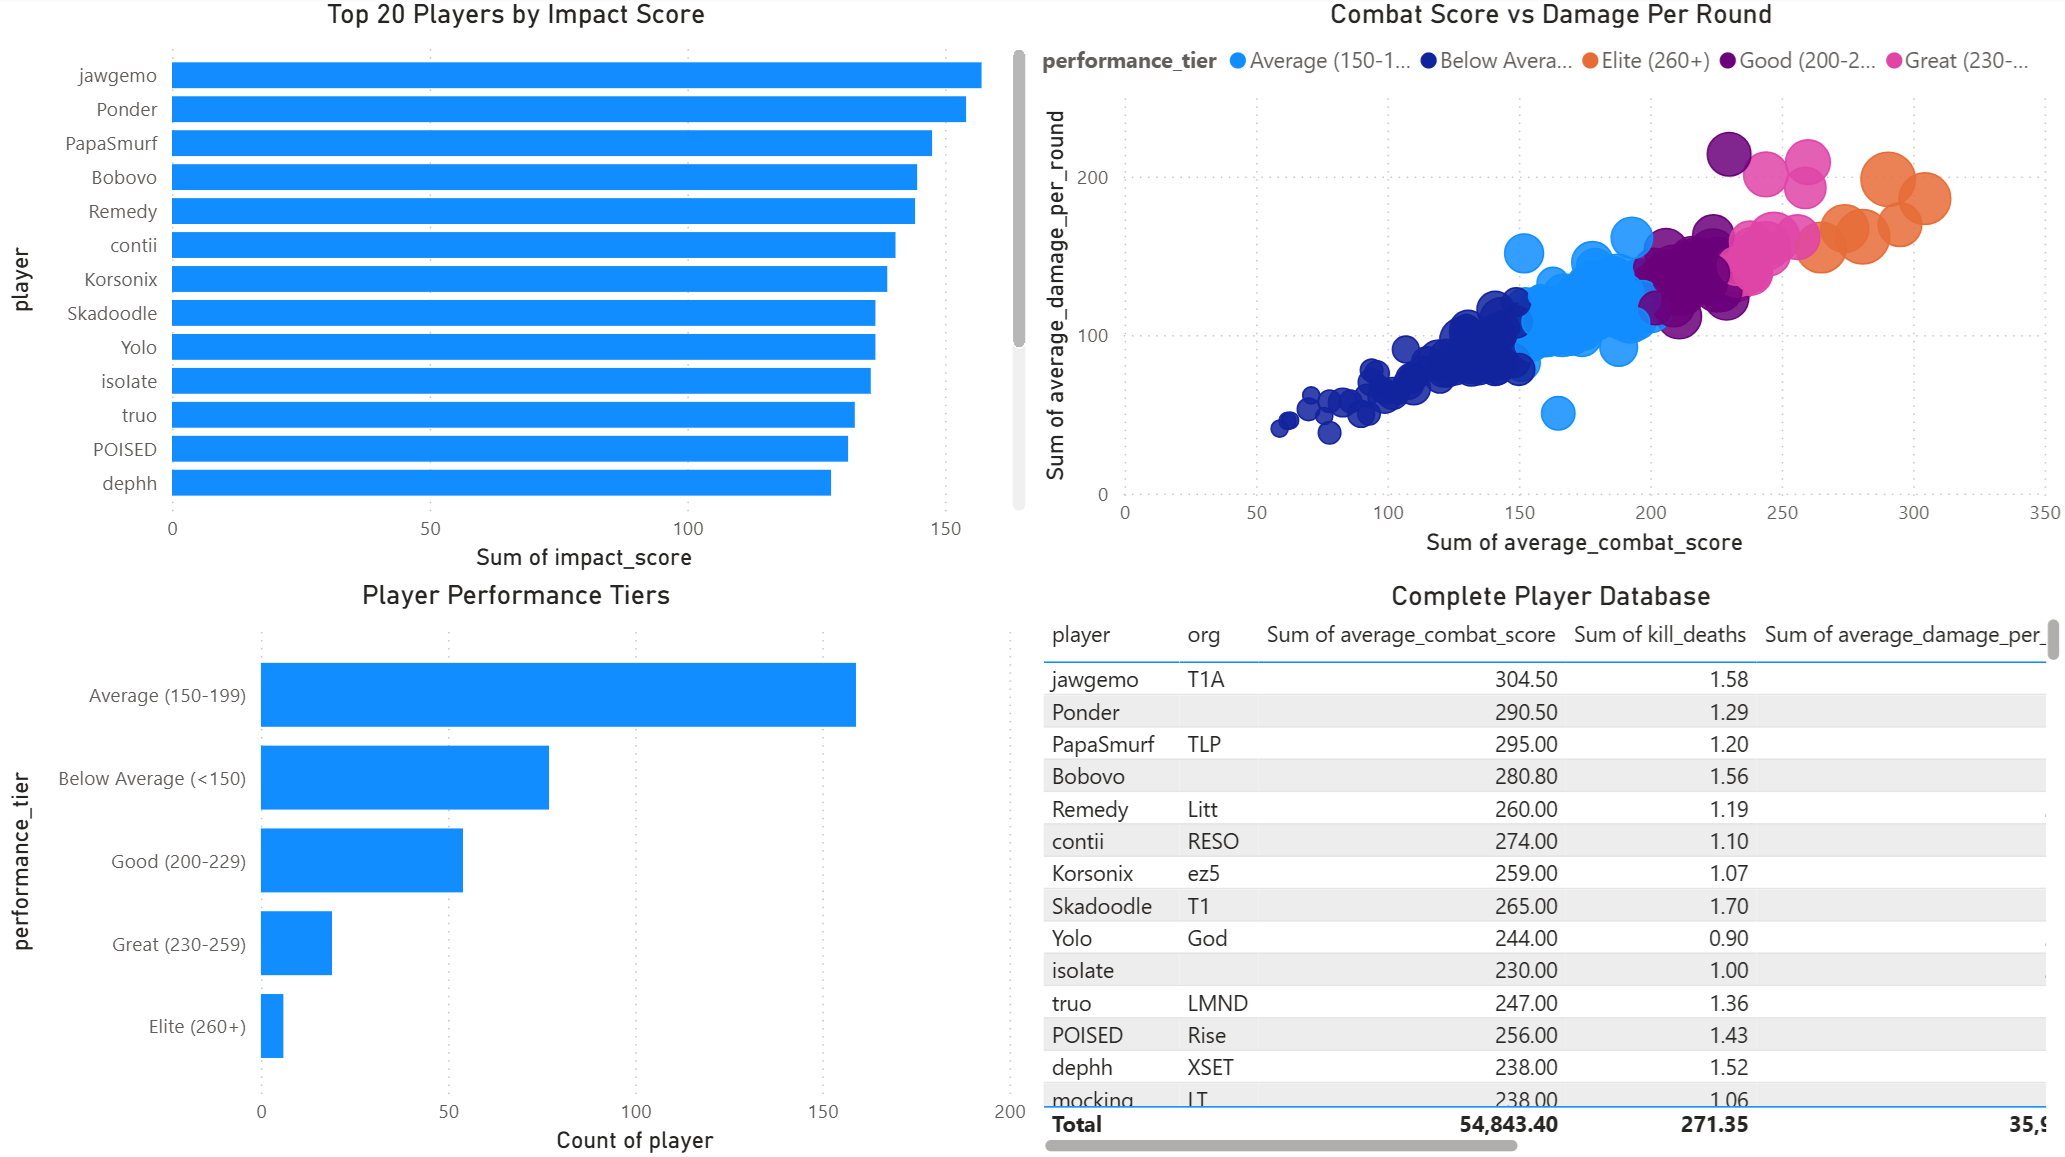

The page's visual inventory and layout, read from the dashboard file:
{"tool":"powerbi","page":{"name":"Player Stats","canvas":[1280,720],"ordinal":3},"visuals":[{"type":"barChart","title":"Top 20 Players by Impact Score","fields":{"Category":["stats_enriched.player"],"Y":["Sum(stats_enriched.impact_score)"]},"box":[0,0,640,359.6],"z":0},{"type":"scatterChart","title":"Combat Score vs Damage Per Round","fields":{"X":["Sum(stats_enriched.average_combat_score)"],"Y":["Sum(stats_enriched.average_damage_per_round)"],"Category":["stats_enriched.player"],"Series":["stats_enriched.performance_tier"],"Size":["Sum(stats_enriched.total_kills)"]},"box":[640,0,640,350.4],"z":1000},{"type":"barChart","title":"Player Performance Tiers","fields":{"Category":["stats_enriched.performance_tier"],"Y":["CountNonNull(stats_enriched.player)"]},"box":[0,359.6,640,360.8],"z":2000},{"type":"tableEx","title":"Complete Player Database","fields":{"Values":["stats_enriched.player","stats_enriched.org","Sum(stats_enriched.average_combat_score)","Sum(stats_enriched.kill_deaths)","Sum(stats_enriched.average_damage_per_round)","Sum(stats_enriched.headshot_percentage)","Sum(stats_enriched.total_deaths)","Sum(stats_enriched.total_kills)","Sum(stats_enriched.impact_score)","stats_enriched.likely_role"]},"box":[640,360,640,360],"z":3000}]}

Visuals, with their boxes in screenshot pixels (x1, y1, x2, y2), scaled from the page's 1280x720 canvas onto the 2065x1157 screenshot:
"Top 20 Players by Impact Score" barChart: region(0, 0, 1032, 578)
"Combat Score vs Damage Per Round" scatterChart: region(1032, 0, 2064, 563)
"Player Performance Tiers" barChart: region(0, 578, 1032, 1156)
"Complete Player Database" tableEx: region(1032, 578, 2064, 1156)
